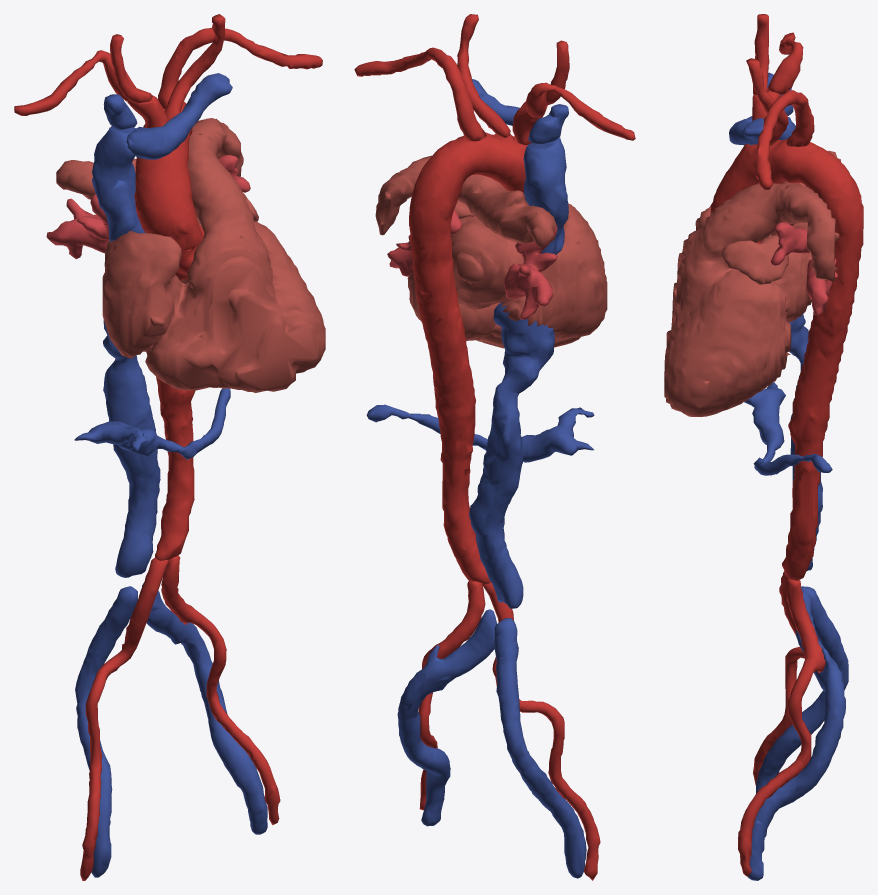
File: tsd_s0327_older_adult_male.cardiovascular.LOD2.glb
3 views of the same model, side by side, from view 1: azimuth 30°, elevation 25°; view 2: azimuth 150°, elevation 25°; view 3: azimuth 270°, elevation 25° (orthographic). The views are drawn at different scales.
Visible parts, largest first — view 1: TSD_S0327.OLDER_ADULT.MALE.CARDIOVASCULAR.HEART_ALL_CHAMBERS, TSD_S0327.OLDER_ADULT.MALE.CARDIOVASCULAR.AORTA, TSD_S0327.OLDER_ADULT.MALE.CARDIOVASCULAR.INFERIOR_VENA_CAVA, TSD_S0327.OLDER_ADULT.MALE.CARDIOVASCULAR.ILIAC_VEIN.L, TSD_S0327.OLDER_ADULT.MALE.CARDIOVASCULAR.ILIAC_VEIN.R, TSD_S0327.OLDER_ADULT.MALE.CARDIOVASCULAR.ILIAC_ARTERY.R, TSD_S0327.OLDER_ADULT.MALE.CARDIOVASCULAR.SUBCLAVIAN_ARTERY. (×2), TSD_S0327.OLDER_ADULT.MALE.CARDIOVASCULAR.ILIAC_ARTERY.L, TSD_S0327.OLDER_ADULT.MALE.CARDIOVASCULAR.BRACHIOCEPHALIC_VE (×2), TSD_S0327.OLDER_ADULT.MALE.CARDIOVASCULAR.SUPERIOR_VENA_CAVA, TSD_S0327.OLDER_ADULT.MALE.CARDIOVASCULAR.PORTAL_VEIN_AND_SP, TSD_S0327.OLDER_ADULT.MALE.CARDIOVASCULAR.PULMONARY_VEINS_ON (+2 smaller); view 2: TSD_S0327.OLDER_ADULT.MALE.CARDIOVASCULAR.AORTA, TSD_S0327.OLDER_ADULT.MALE.CARDIOVASCULAR.HEART_ALL_CHAMBERS, TSD_S0327.OLDER_ADULT.MALE.CARDIOVASCULAR.INFERIOR_VENA_CAVA, TSD_S0327.OLDER_ADULT.MALE.CARDIOVASCULAR.ILIAC_VEIN.L, TSD_S0327.OLDER_ADULT.MALE.CARDIOVASCULAR.ILIAC_VEIN.R, TSD_S0327.OLDER_ADULT.MALE.CARDIOVASCULAR.SUBCLAVIAN_ARTERY. (×2), TSD_S0327.OLDER_ADULT.MALE.CARDIOVASCULAR.PULMONARY_VEINS_ON, TSD_S0327.OLDER_ADULT.MALE.CARDIOVASCULAR.SUPERIOR_VENA_CAVA, TSD_S0327.OLDER_ADULT.MALE.CARDIOVASCULAR.ILIAC_ARTERY.R, TSD_S0327.OLDER_ADULT.MALE.CARDIOVASCULAR.PORTAL_VEIN_AND_SP, TSD_S0327.OLDER_ADULT.MALE.CARDIOVASCULAR.COMMON_CAROTID_ART (×2), TSD_S0327.OLDER_ADULT.MALE.CARDIOVASCULAR.ILIAC_ARTERY.L (+2 smaller); view 3: TSD_S0327.OLDER_ADULT.MALE.CARDIOVASCULAR.HEART_ALL_CHAMBERS, TSD_S0327.OLDER_ADULT.MALE.CARDIOVASCULAR.AORTA, TSD_S0327.OLDER_ADULT.MALE.CARDIOVASCULAR.ILIAC_VEIN.L, TSD_S0327.OLDER_ADULT.MALE.CARDIOVASCULAR.ILIAC_ARTERY.L, TSD_S0327.OLDER_ADULT.MALE.CARDIOVASCULAR.SUBCLAVIAN_ARTERY. (×2), TSD_S0327.OLDER_ADULT.MALE.CARDIOVASCULAR.ILIAC_VEIN.R, TSD_S0327.OLDER_ADULT.MALE.CARDIOVASCULAR.PORTAL_VEIN_AND_SP, TSD_S0327.OLDER_ADULT.MALE.CARDIOVASCULAR.LEFT_ATRIAL_APPEND, TSD_S0327.OLDER_ADULT.MALE.CARDIOVASCULAR.PULMONARY_VEINS_ON, TSD_S0327.OLDER_ADULT.MALE.CARDIOVASCULAR.COMMON_CAROTID_ART (×2), TSD_S0327.OLDER_ADULT.MALE.CARDIOVASCULAR.ILIAC_ARTERY.R, TSD_S0327.OLDER_ADULT.MALE.CARDIOVASCULAR.INFERIOR_VENA_CAVA (+1 smaller).
Boxes of the visible parts, <box> form: TSD_S0327.OLDER_ADULT.MALE.CARDIOVASCULAR.HEART_ALL_CHAMBERS: <box>56,118,325,392</box>; TSD_S0327.OLDER_ADULT.MALE.CARDIOVASCULAR.AORTA: <box>134,102,204,560</box>; TSD_S0327.OLDER_ADULT.MALE.CARDIOVASCULAR.INFERIOR_VENA_CAVA: <box>103,320,160,577</box>; TSD_S0327.OLDER_ADULT.MALE.CARDIOVASCULAR.ILIAC_VEIN.L: <box>139,582,267,834</box>; TSD_S0327.OLDER_ADULT.MALE.CARDIOVASCULAR.ILIAC_VEIN.R: <box>75,586,137,877</box>; TSD_S0327.OLDER_ADULT.MALE.CARDIOVASCULAR.ILIAC_ARTERY.R: <box>80,557,168,880</box>; TSD_S0327.OLDER_ADULT.MALE.CARDIOVASCULAR.SUBCLAVIAN_ARTERY. (×2): <box>14,28,322,115</box>; TSD_S0327.OLDER_ADULT.MALE.CARDIOVASCULAR.ILIAC_ARTERY.L: <box>161,555,280,825</box>; TSD_S0327.OLDER_ADULT.MALE.CARDIOVASCULAR.BRACHIOCEPHALIC_VE (×2): <box>103,73,232,159</box>; TSD_S0327.OLDER_ADULT.MALE.CARDIOVASCULAR.SUPERIOR_VENA_CAVA: <box>92,126,145,241</box>; TSD_S0327.OLDER_ADULT.MALE.CARDIOVASCULAR.PORTAL_VEIN_AND_SP: <box>74,388,230,459</box>; TSD_S0327.OLDER_ADULT.MALE.CARDIOVASCULAR.PULMONARY_VEINS_ON: <box>46,154,250,259</box>; TSD_S0327.OLDER_ADULT.MALE.CARDIOVASCULAR.AORTA: <box>409,132,527,583</box>; TSD_S0327.OLDER_ADULT.MALE.CARDIOVASCULAR.HEART_ALL_CHAMBERS: <box>375,155,607,348</box>; TSD_S0327.OLDER_ADULT.MALE.CARDIOVASCULAR.INFERIOR_VENA_CAVA: <box>469,303,554,608</box>; TSD_S0327.OLDER_ADULT.MALE.CARDIOVASCULAR.ILIAC_VEIN.L: <box>397,609,496,826</box>; TSD_S0327.OLDER_ADULT.MALE.CARDIOVASCULAR.ILIAC_VEIN.R: <box>494,618,586,878</box>; TSD_S0327.OLDER_ADULT.MALE.CARDIOVASCULAR.SUBCLAVIAN_ARTERY. (×2): <box>354,47,635,141</box>; TSD_S0327.OLDER_ADULT.MALE.CARDIOVASCULAR.PULMONARY_VEINS_ON: <box>387,209,557,319</box>; TSD_S0327.OLDER_ADULT.MALE.CARDIOVASCULAR.SUPERIOR_VENA_CAVA: <box>523,138,568,254</box>; TSD_S0327.OLDER_ADULT.MALE.CARDIOVASCULAR.ILIAC_ARTERY.R: <box>482,582,600,880</box>; TSD_S0327.OLDER_ADULT.MALE.CARDIOVASCULAR.PORTAL_VEIN_AND_SP: <box>366,404,594,462</box>; TSD_S0327.OLDER_ADULT.MALE.CARDIOVASCULAR.COMMON_CAROTID_ART (×2): <box>457,14,569,138</box>; TSD_S0327.OLDER_ADULT.MALE.CARDIOVASCULAR.ILIAC_ARTERY.L: <box>418,581,485,810</box>; TSD_S0327.OLDER_ADULT.MALE.CARDIOVASCULAR.HEART_ALL_CHAMBERS: <box>664,150,840,416</box>; TSD_S0327.OLDER_ADULT.MALE.CARDIOVASCULAR.AORTA: <box>710,139,863,580</box>; TSD_S0327.OLDER_ADULT.MALE.CARDIOVASCULAR.ILIAC_VEIN.L: <box>747,591,845,880</box>; TSD_S0327.OLDER_ADULT.MALE.CARDIOVASCULAR.ILIAC_ARTERY.L: <box>738,578,825,876</box>; TSD_S0327.OLDER_ADULT.MALE.CARDIOVASCULAR.SUBCLAVIAN_ARTERY. (×2): <box>755,32,814,189</box>; TSD_S0327.OLDER_ADULT.MALE.CARDIOVASCULAR.ILIAC_VEIN.R: <box>756,586,848,793</box>; TSD_S0327.OLDER_ADULT.MALE.CARDIOVASCULAR.PORTAL_VEIN_AND_SP: <box>744,382,832,475</box>; TSD_S0327.OLDER_ADULT.MALE.CARDIOVASCULAR.LEFT_ATRIAL_APPEND: <box>722,234,788,284</box>; TSD_S0327.OLDER_ADULT.MALE.CARDIOVASCULAR.PULMONARY_VEINS_ON: <box>771,222,837,316</box>; TSD_S0327.OLDER_ADULT.MALE.CARDIOVASCULAR.COMMON_CAROTID_ART (×2): <box>746,14,788,145</box>; TSD_S0327.OLDER_ADULT.MALE.CARDIOVASCULAR.ILIAC_ARTERY.R: <box>753,571,804,785</box>; TSD_S0327.OLDER_ADULT.MALE.CARDIOVASCULAR.INFERIOR_VENA_CAVA: <box>789,314,822,570</box>.
Size of the model in its own units: 0.216 by 0.5855 by 0.1307.
